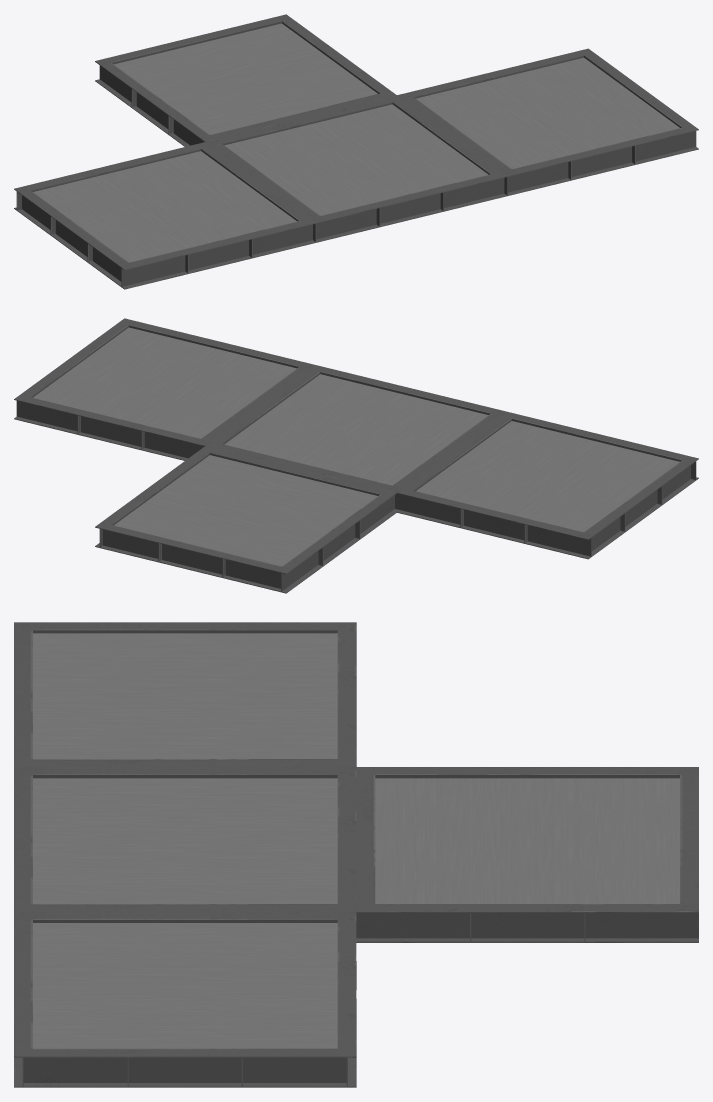
File: SM05_Architecture_MezzanineFloor_01_Intersection_T.fbx
3 views of the same model, one above another, from view 1: azimuth 30°, elevation 25°; view 2: azimuth 150°, elevation 25°; view 3: azimuth 270°, elevation 25° (orthographic). The views are drawn at different scales.
Parts seen in each view (by area): view 1: SM05_Architecture_MezzanineFloor_01_Intersection_T; view 2: SM05_Architecture_MezzanineFloor_01_Intersection_T; view 3: SM05_Architecture_MezzanineFloor_01_Intersection_T.
Boxes of the visible parts, bbox=[...] form: SM05_Architecture_MezzanineFloor_01_Intersection_T: bbox=[14, 14, 698, 289]; SM05_Architecture_MezzanineFloor_01_Intersection_T: bbox=[14, 318, 698, 593]; SM05_Architecture_MezzanineFloor_01_Intersection_T: bbox=[14, 622, 698, 1087].
Bounding box in the file's own units: 3 × 0.1 × 2.
